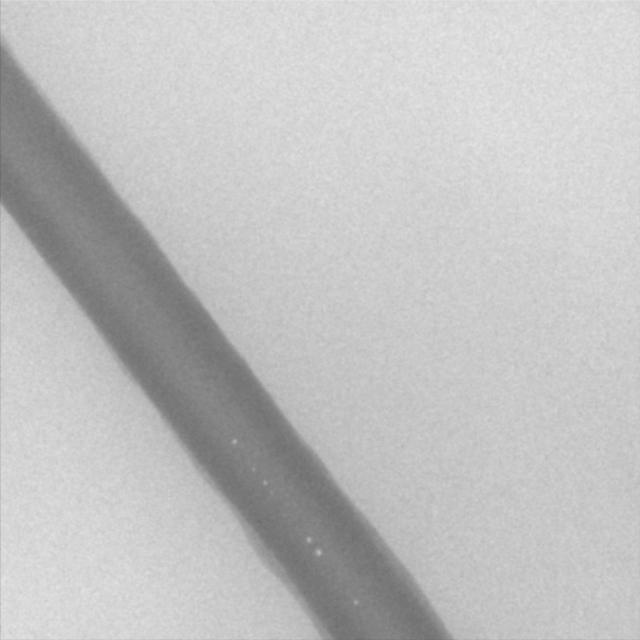air hole: (315, 546, 323, 558), (352, 596, 361, 606), (230, 436, 239, 446), (304, 533, 312, 544), (261, 478, 269, 488)
